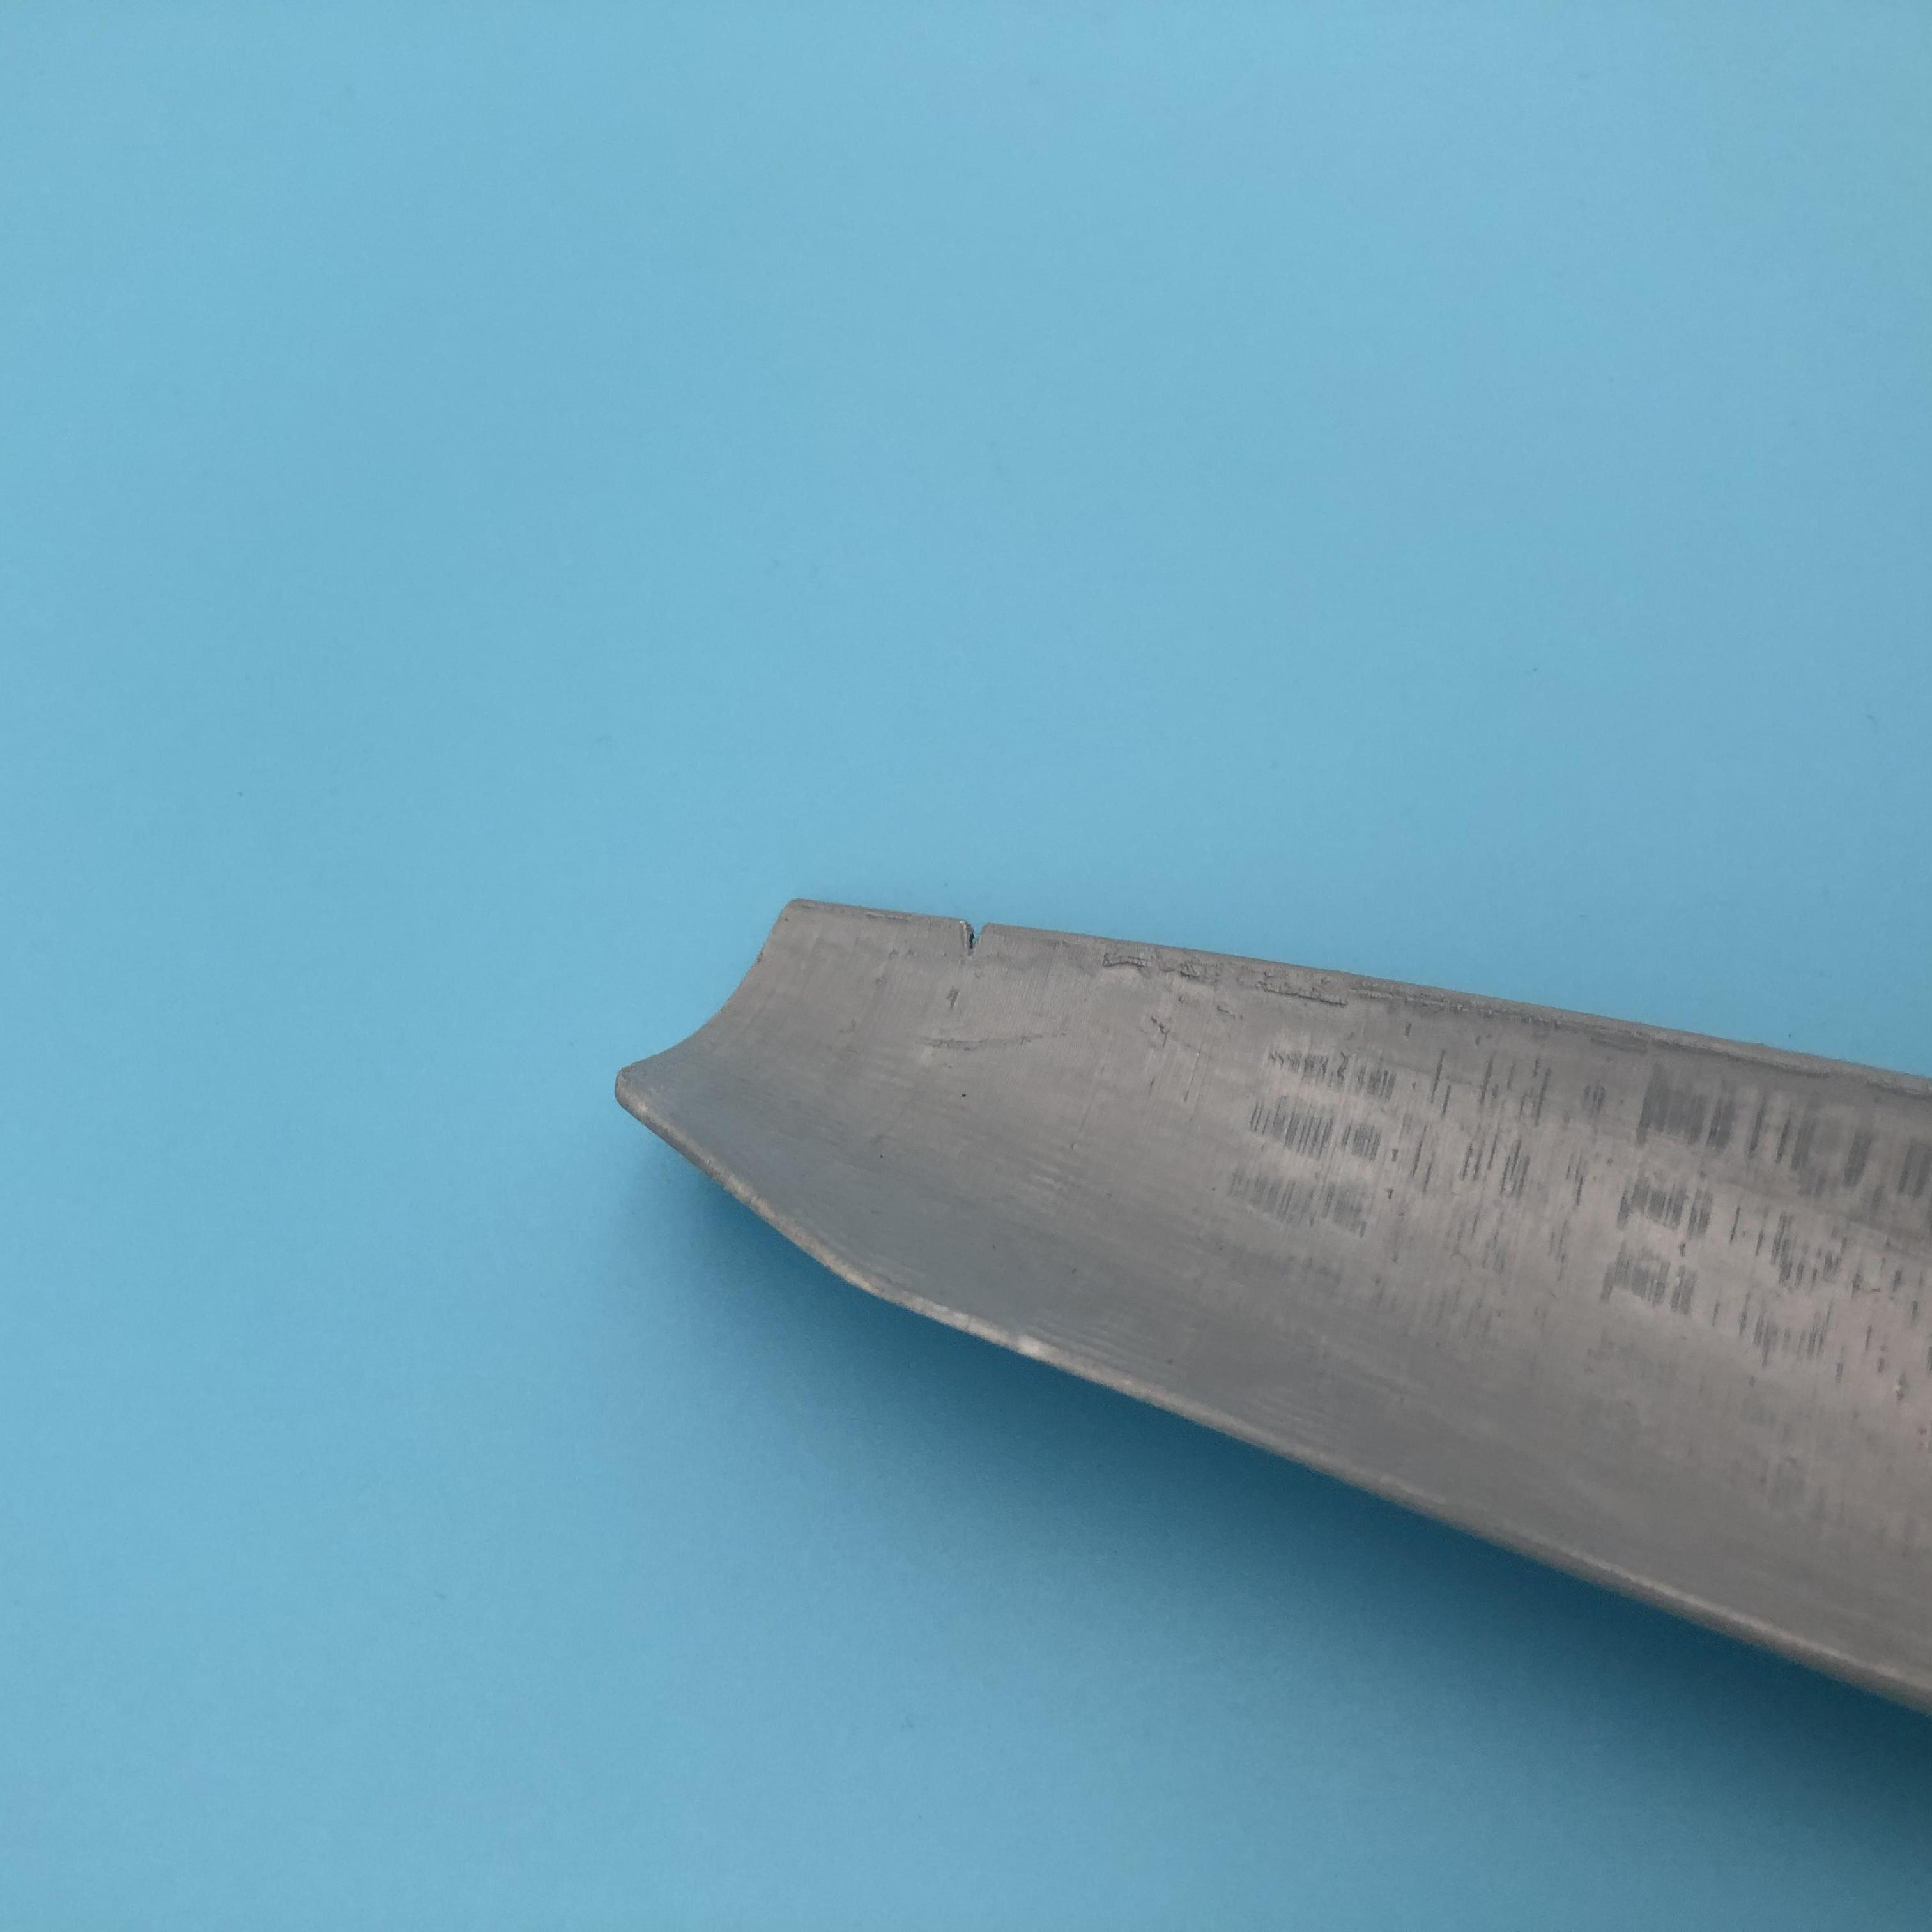groove: (952, 911, 1017, 964)
